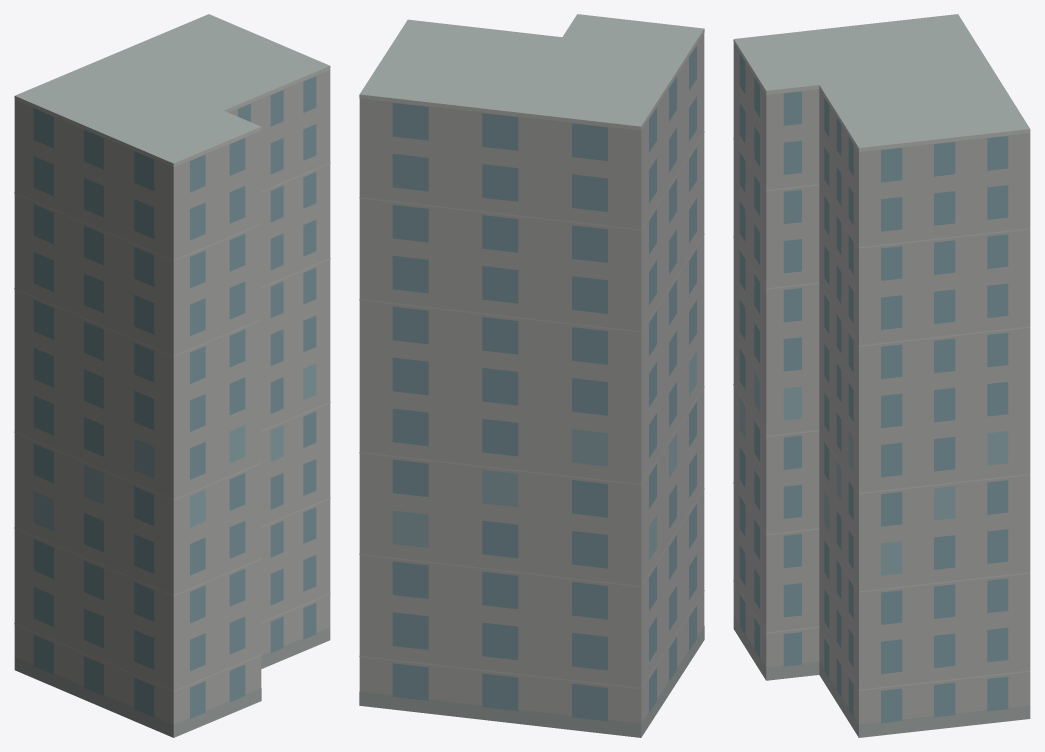
Rendered from survey-upis-32951129.glb.
3 renders of one model, left to right at view 1: azimuth 30°, elevation 25°; view 2: azimuth 150°, elevation 25°; view 3: azimuth 270°, elevation 25°, orthographic. The views are drawn at different scales.
Visible parts, largest first — view 1: survey-upis-32951129.tmp; view 2: survey-upis-32951129.tmp; view 3: survey-upis-32951129.tmp.
Part boxes in pixels (left/top/right/bottom): survey-upis-32951129.tmp: left=14, top=14, right=330, bottom=737; survey-upis-32951129.tmp: left=359, top=14, right=704, bottom=737; survey-upis-32951129.tmp: left=733, top=14, right=1030, bottom=737.
Size of the model in its own units: 17.97 by 36.8 by 16.8.
